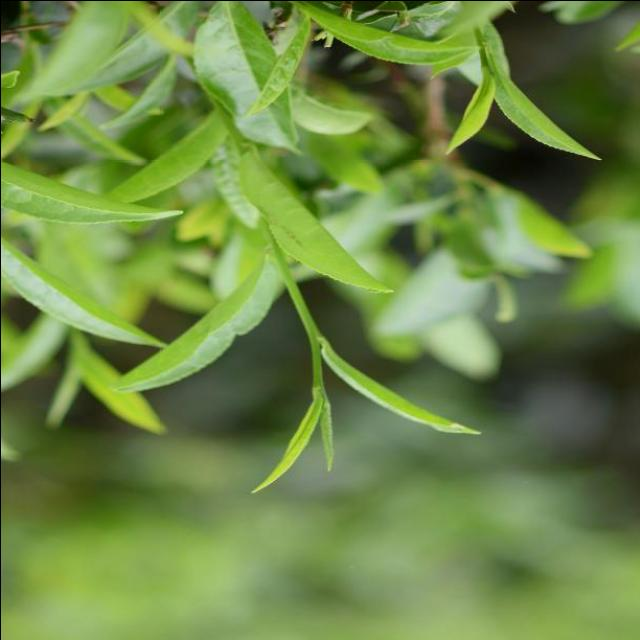Stem: (309, 333, 321, 340), (481, 58, 486, 65)
